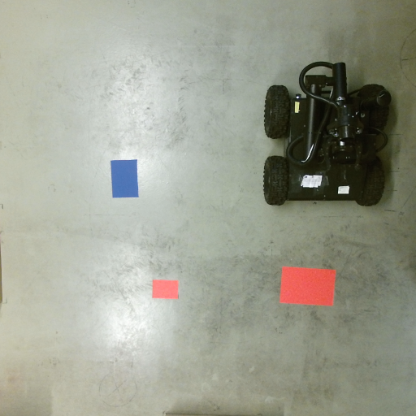Blue: (108, 158, 141, 198)
Jaguar: (260, 61, 390, 209)
Red: (278, 267, 338, 307), (149, 276, 180, 300)
